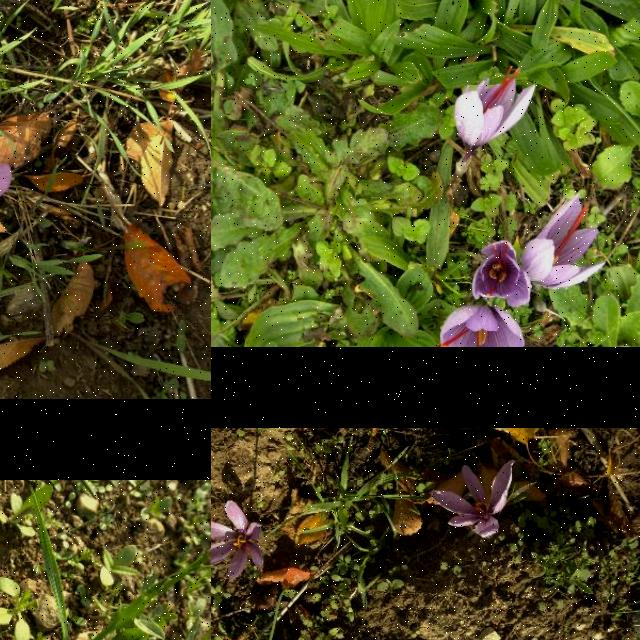flower: (522, 194, 606, 290), (456, 66, 536, 152), (429, 458, 515, 538), (211, 501, 265, 581), (436, 302, 526, 348), (472, 242, 532, 308)
